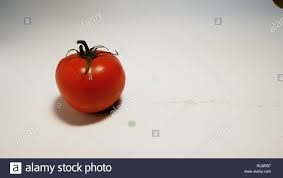tomato: (56, 51, 125, 113)
